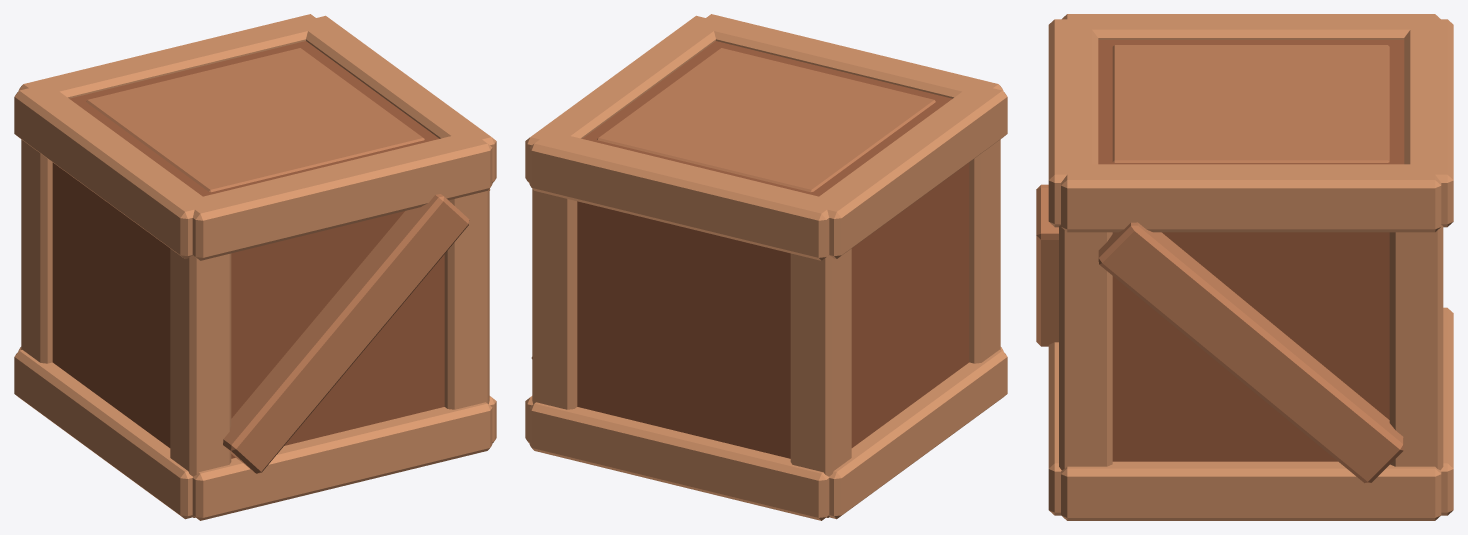
3 views of the same model, side by side, from view 1: azimuth 30°, elevation 25°; view 2: azimuth 150°, elevation 25°; view 3: azimuth 270°, elevation 25° (orthographic). The views are drawn at different scales.
Parts seen in each view (by area): view 1: 15_Crate / Solid box, 15_Crate / Lid panel, 15_Crate / Horizontal face rail.002, 15_Crate / Front diagonal, 15_Crate / Horizontal face rail, 15_Crate / Corner post, 15_Crate / Side rail.002, 15_Crate / Side rail, 15_Crate / Corner post.002, 15_Crate / Horizontal face rail.003, 15_Crate / Corner post.001, 15_Crate / Side rail.003; view 2: 15_Crate / Solid box, 15_Crate / Lid panel, 15_Crate / Horizontal face rail.003, 15_Crate / Horizontal face rail.001, 15_Crate / Side rail.002, 15_Crate / Corner post.001, 15_Crate / Side rail, 15_Crate / Corner post.003, 15_Crate / Horizontal face rail.002, 15_Crate / Corner post, 15_Crate / Side rail.003; view 3: 15_Crate / Solid box, 15_Crate / Lid panel, 15_Crate / Side rail.003, 15_Crate / Side diagonal, 15_Crate / Side rail.001, 15_Crate / Corner post.003, 15_Crate / Corner post.002, 15_Crate / Side rail.002, 15_Crate / Horizontal face rail.002, 15_Crate / Horizontal face rail.003, 15_Crate / Front diagonal, 15_Crate / Horizontal face rail.001 (+1 smaller).
Part boxes in pixels (x1,y1,x2,y2): 15_Crate / Solid box: (52, 41, 444, 458); 15_Crate / Lid panel: (86, 48, 424, 192); 15_Crate / Horizontal face rail.002: (184, 131, 492, 260); 15_Crate / Front diagonal: (223, 194, 469, 473); 15_Crate / Horizontal face rail: (192, 402, 492, 520); 15_Crate / Corner post: (170, 248, 231, 517); 15_Crate / Side rail.002: (14, 86, 211, 258); 15_Crate / Side rail: (14, 350, 192, 519); 15_Crate / Corner post.002: (444, 189, 489, 409); 15_Crate / Horizontal face rail.003: (18, 14, 326, 98); 15_Crate / Corner post.001: (21, 139, 52, 363); 15_Crate / Side rail.003: (298, 15, 496, 183); 15_Crate / Solid box: (577, 41, 969, 458); 15_Crate / Lid panel: (597, 48, 935, 192); 15_Crate / Horizontal face rail.003: (529, 131, 837, 260); 15_Crate / Horizontal face rail.001: (529, 402, 829, 520); 15_Crate / Side rail.002: (808, 83, 1007, 258); 15_Crate / Corner post.001: (790, 248, 851, 517); 15_Crate / Side rail: (829, 350, 1007, 519); 15_Crate / Corner post.003: (532, 189, 577, 409); 15_Crate / Horizontal face rail.002: (695, 14, 1003, 98); 15_Crate / Corner post: (969, 139, 1000, 363); 15_Crate / Side rail.003: (525, 15, 716, 183); 15_Crate / Solid box: (1098, 40, 1404, 461); 15_Crate / Lid panel: (1112, 45, 1389, 162); 15_Crate / Side rail.003: (1061, 164, 1441, 232); 15_Crate / Side diagonal: (1098, 222, 1403, 483); 15_Crate / Side rail.001: (1061, 461, 1441, 520); 15_Crate / Corner post.003: (1389, 225, 1443, 470); 15_Crate / Corner post.002: (1059, 225, 1112, 469); 15_Crate / Side rail.002: (1062, 14, 1440, 39); 15_Crate / Horizontal face rail.002: (1048, 19, 1098, 227); 15_Crate / Horizontal face rail.003: (1404, 19, 1453, 227); 15_Crate / Front diagonal: (1036, 184, 1058, 346); 15_Crate / Horizontal face rail.001: (1440, 307, 1453, 515).
Bounding box in the file's own units: 101 × 91 × 101.
